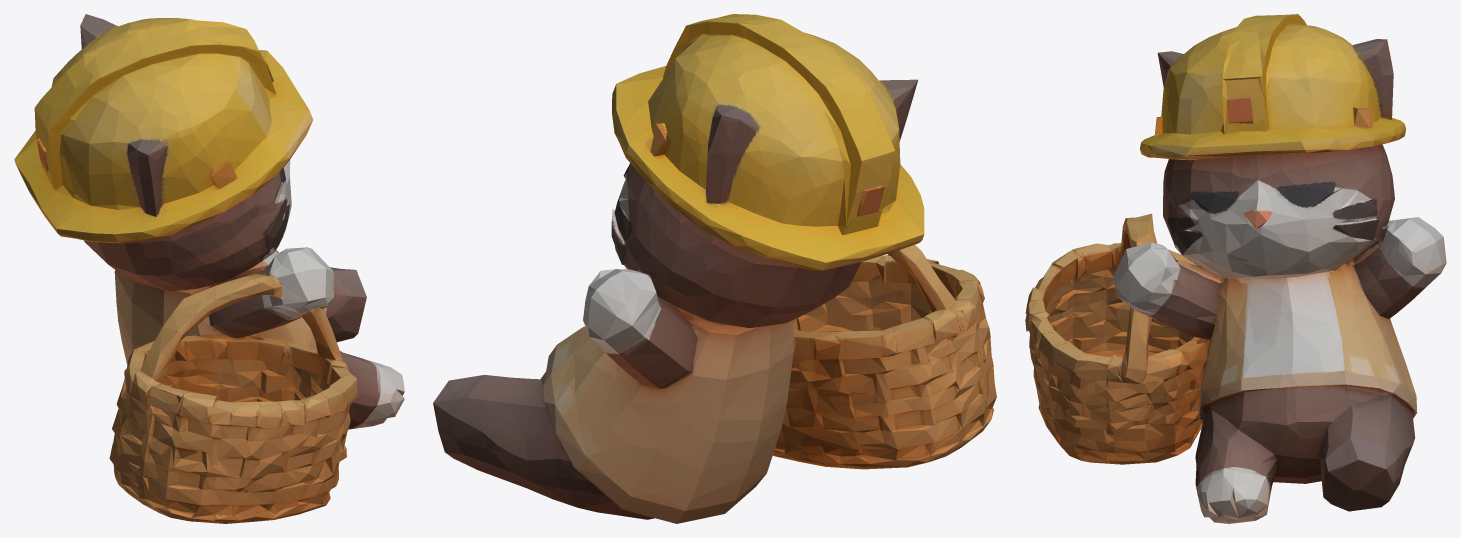
Rendered from pawdler.glb.
3 views of the same model, side by side, from view 1: azimuth 30°, elevation 25°; view 2: azimuth 150°, elevation 25°; view 3: azimuth 270°, elevation 25° (orthographic). The views are drawn at different scales.
Visible parts, largest first — view 1: tripo_node_459ed706-c709-40ff-80b8-82fd7cc5e08e; view 2: tripo_node_459ed706-c709-40ff-80b8-82fd7cc5e08e; view 3: tripo_node_459ed706-c709-40ff-80b8-82fd7cc5e08e.
Part boxes in pixels (<box>): tripo_node_459ed706-c709-40ff-80b8-82fd7cc5e08e: <box>14,14,404,523</box>; tripo_node_459ed706-c709-40ff-80b8-82fd7cc5e08e: <box>433,14,996,523</box>; tripo_node_459ed706-c709-40ff-80b8-82fd7cc5e08e: <box>1025,14,1446,523</box>.
Bounding box in the file's own units: 0.889 × 1 × 0.9263.
Materials: 1 (1 with a texture image).
